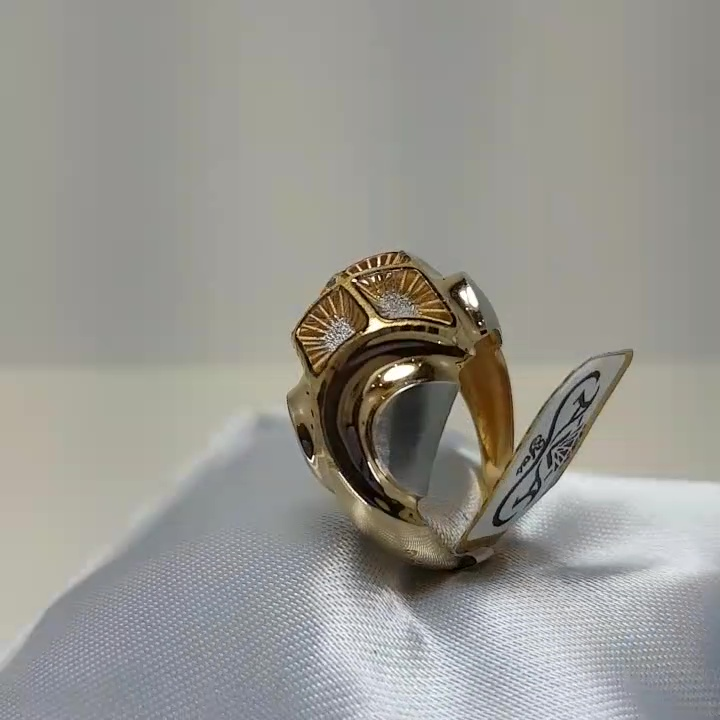Ring 2: (245, 242, 528, 580)
